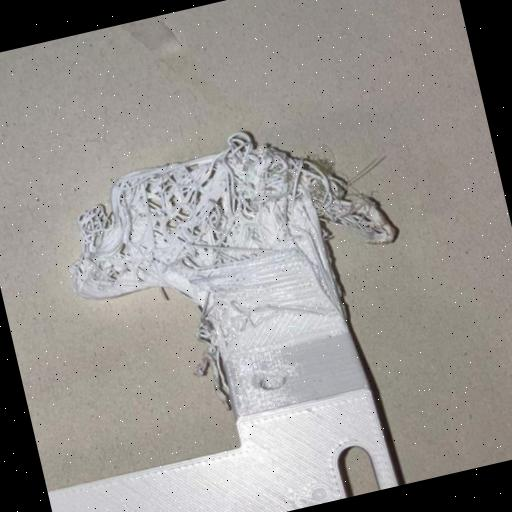spaghetti: (112, 132, 326, 286), (305, 158, 400, 257)
